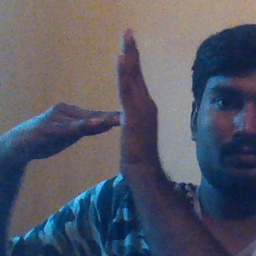Z: (54, 28, 170, 181)
